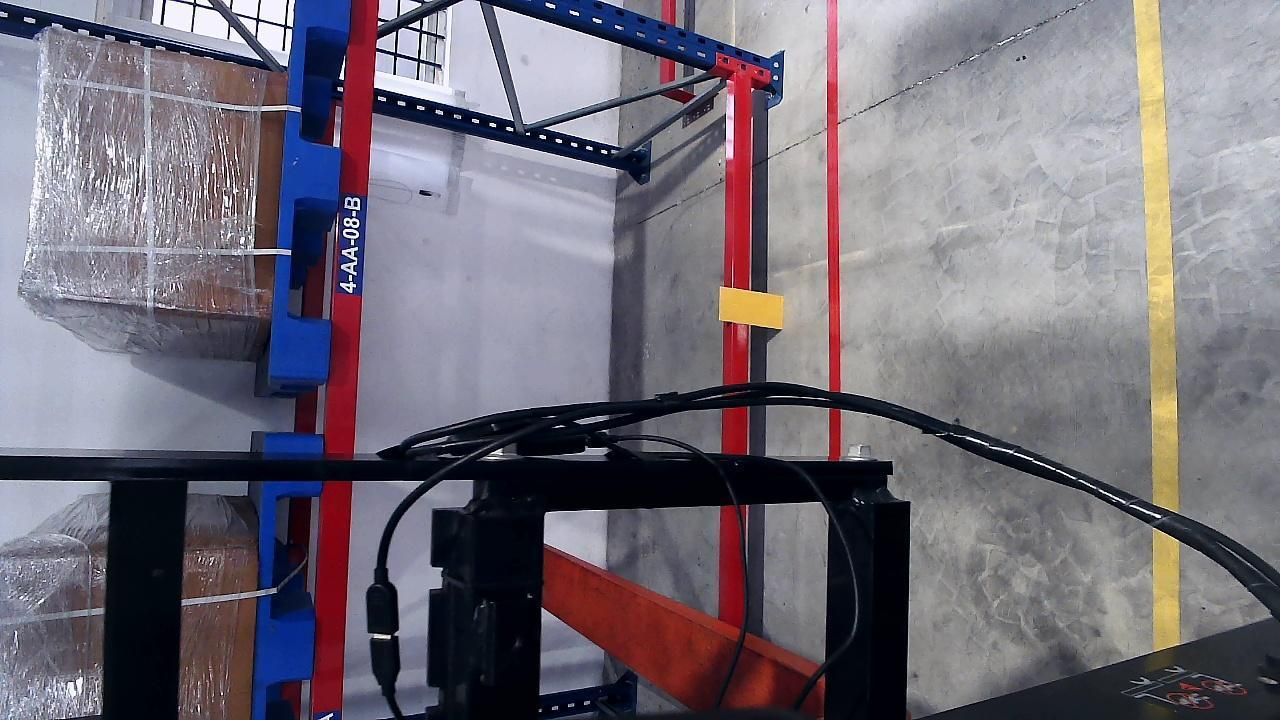red_line: (823, 4, 842, 389)
yellow_line: (1135, 0, 1181, 634)
